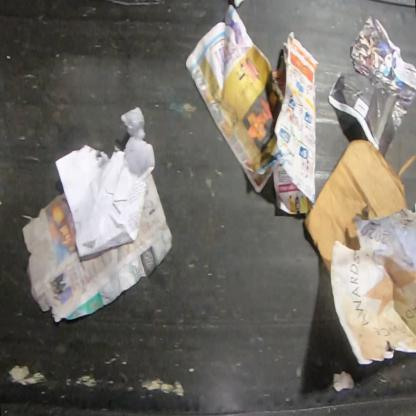cardboard: (305, 138, 415, 278)
